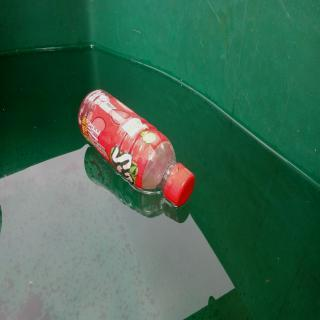bottle: (78, 88, 195, 207)
